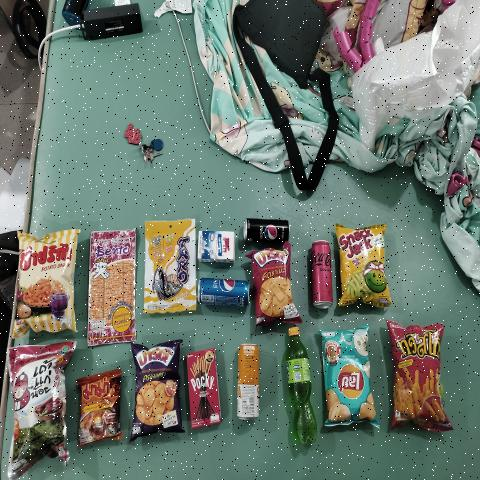bento_red: (92, 233, 134, 338)
coke_red: (310, 239, 332, 309)
fanta_green: (287, 327, 317, 452)
lay_blue: (326, 332, 370, 419)
mama: (81, 380, 120, 436)
paprika: (20, 235, 72, 323)
party_purple: (136, 348, 178, 424)
party_red: (255, 252, 290, 318)
pepsi_black: (243, 217, 294, 242)
pepsi_blue: (199, 274, 253, 312)
pokki: (186, 350, 220, 423)
singha_yellow: (236, 337, 262, 427)
snack_jack: (338, 229, 386, 304)
taokaenoi: (13, 354, 63, 446)
taro_yellow: (150, 226, 194, 307)
thai_denmark: (198, 229, 235, 258)
twisco: (393, 326, 440, 422)
